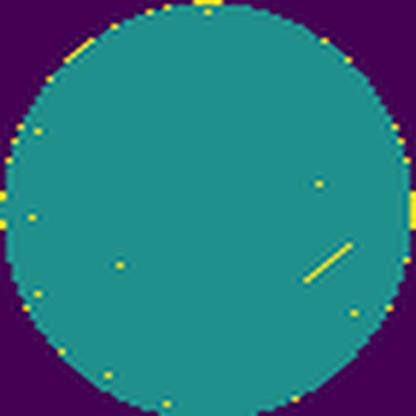Scratch: (299, 238, 358, 290)
